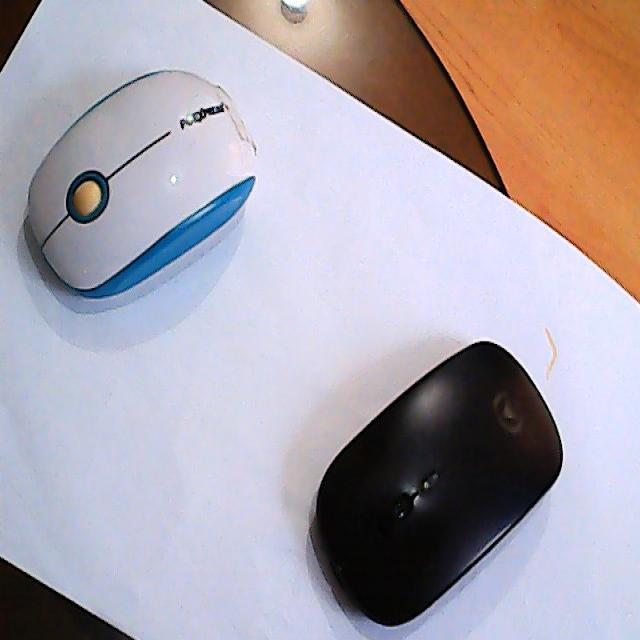mouse: (316, 336, 567, 627), (26, 65, 260, 302)
